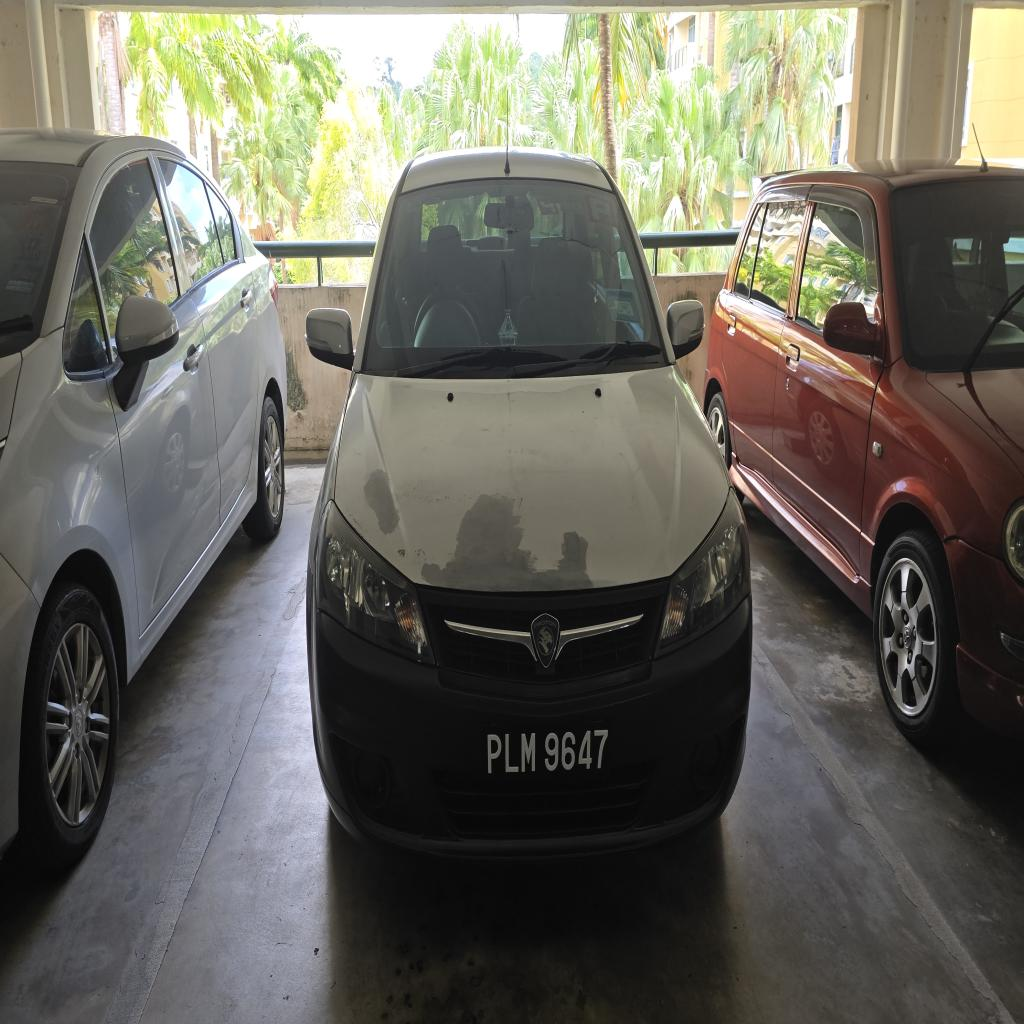car: (307, 150, 752, 856)
car plate: (477, 718, 624, 783)
